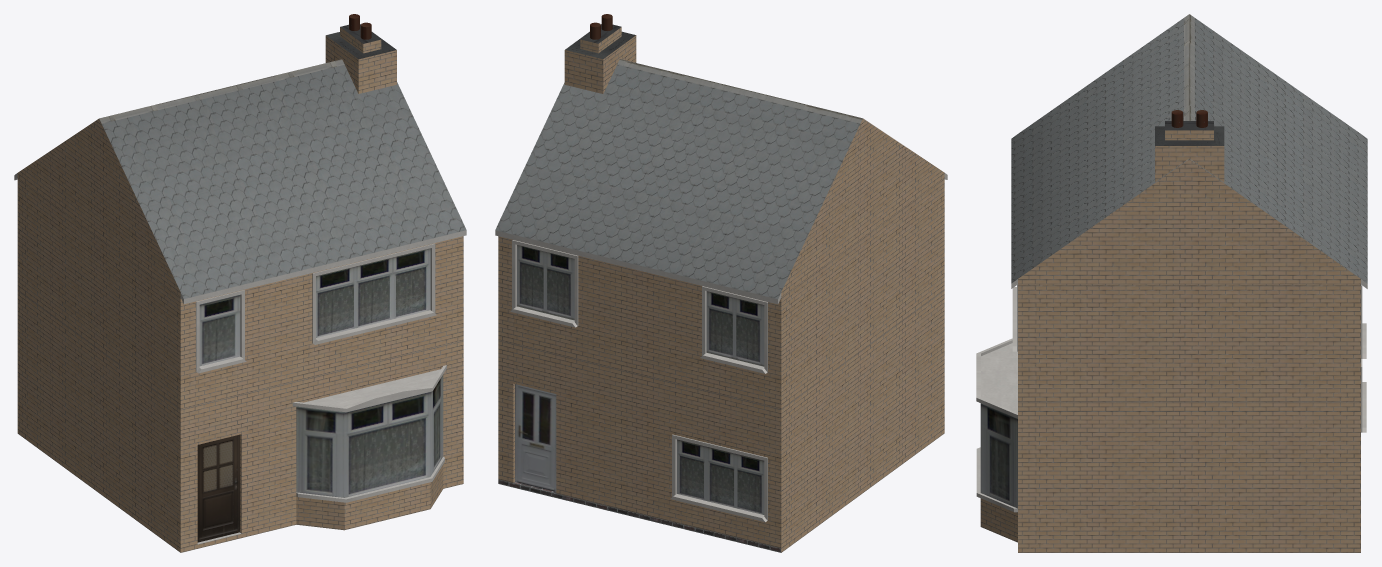
Rendered from terraced1cm.FBX.
3 views of the same model, side by side, from view 1: azimuth 30°, elevation 25°; view 2: azimuth 150°, elevation 25°; view 3: azimuth 270°, elevation 25° (orthographic). The views are drawn at different scales.
Parts seen in each view (by area): view 1: Box001; view 2: Box001; view 3: Box001.
Part boxes in pixels (x1,y1,x2,y2): Box001: [14, 14, 466, 552]; Box001: [495, 14, 947, 552]; Box001: [976, 14, 1367, 552].
Bounding box in the file's own units: 800 × 1105 × 913.
